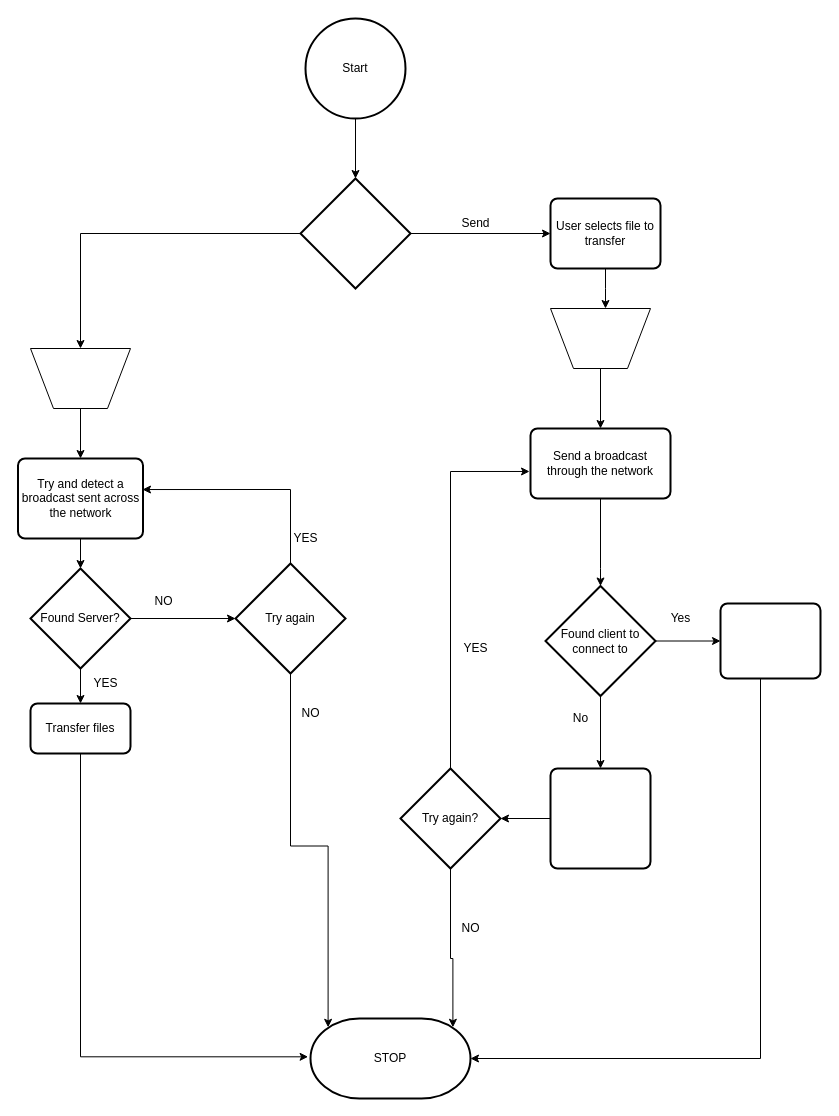
Some shapes in this 839 by 1116 pixel diagram are drawn without their labels. Each missing label, with the centre of its shape:
Click receive: the point at 80,378
Click send: the point at 600,338
Send / Receive: the point at 355,233
Start file transfer: the point at 770,640
Stop broadcast and notify no client found: the point at 600,818
